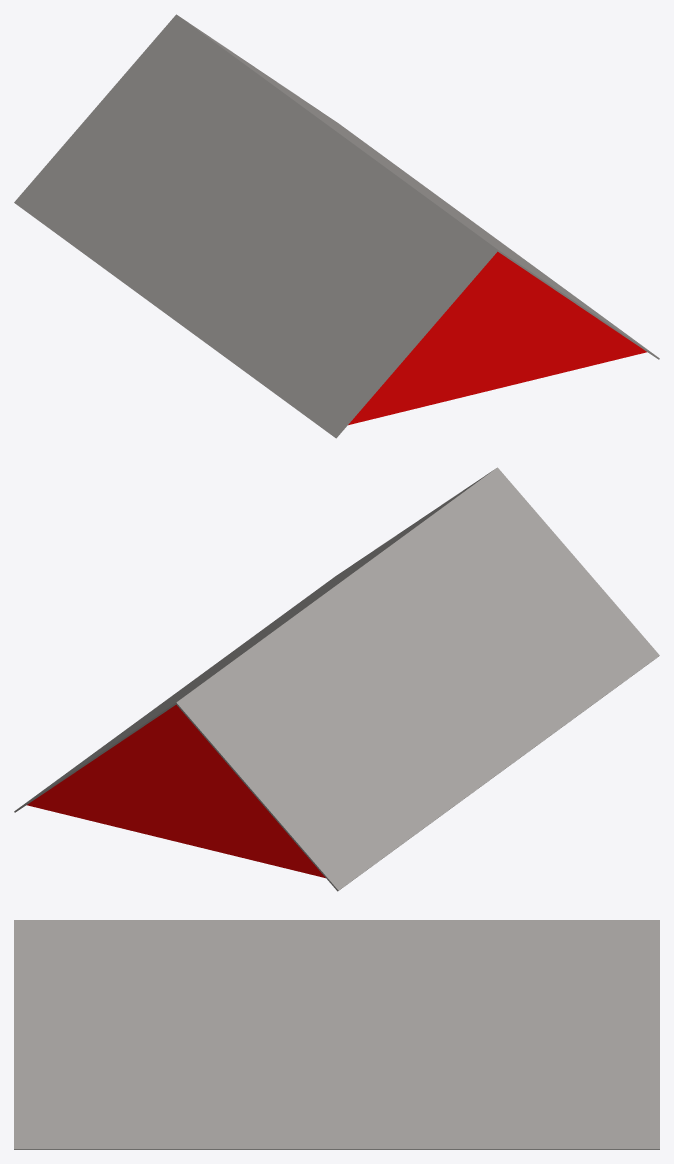
File: BackRoof.fbx
3 renders of one model, top to bottom at view 1: azimuth 30°, elevation 25°; view 2: azimuth 150°, elevation 25°; view 3: azimuth 270°, elevation 25°, orthographic.
Visible parts, largest first — view 1: BackRoof; view 2: BackRoof; view 3: BackRoof.
Part boxes in pixels (x1,y1,x2,y2): BackRoof: (14, 14, 659, 438); BackRoof: (14, 467, 659, 891); BackRoof: (14, 920, 659, 1149).
Bounding box in the file's own units: 1680 × 741 × 2880.
